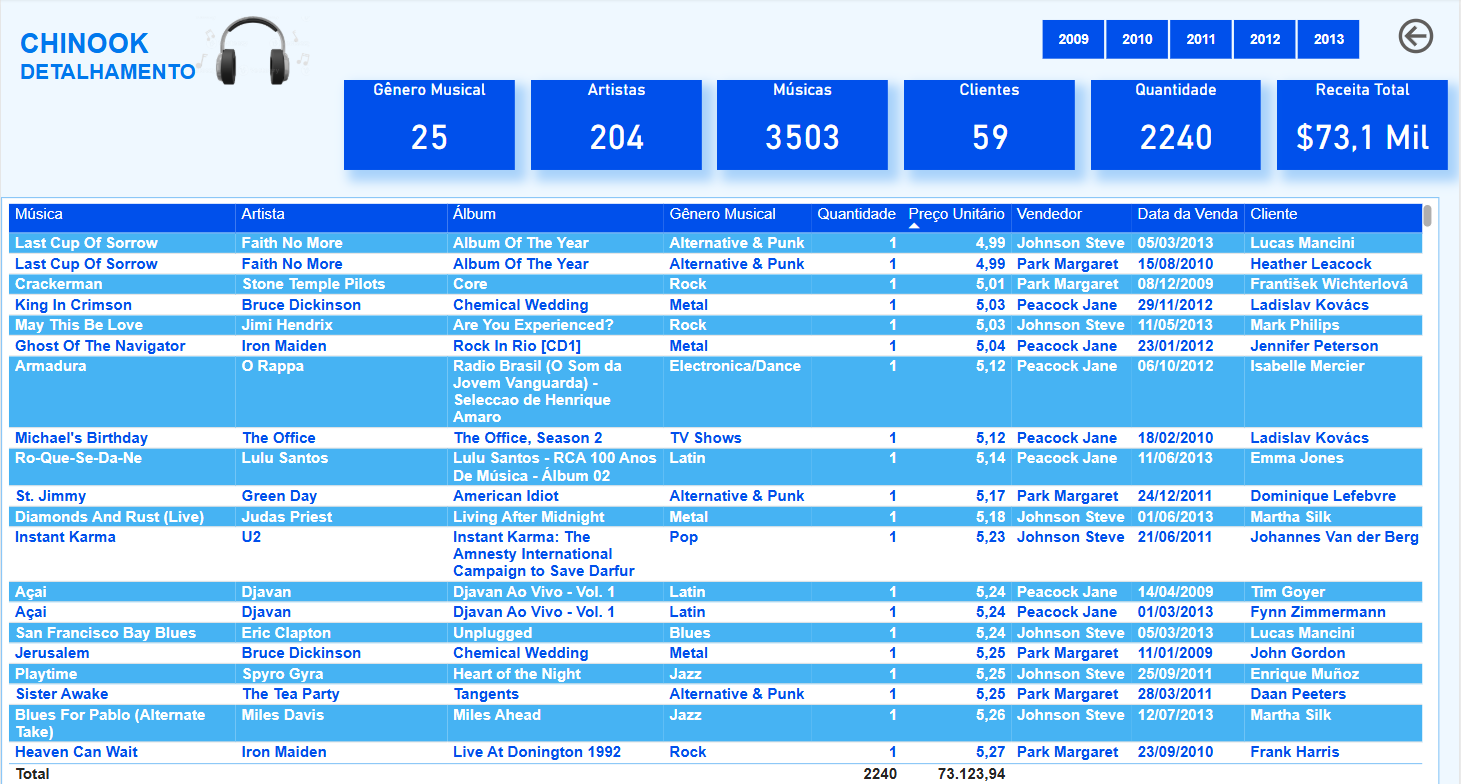

This screenshot's page, from the dashboard's own definition file:
{"tool":"powerbi","page":{"name":"Chinook Detail","canvas":[1280,720],"ordinal":3},"visuals":[{"type":"card","title":"Clientes","fields":{"Values":["#Medidas.TOTAL DE CLIENTES"]},"box":[653.2,73.3,189.8,88.3],"z":0},{"type":"card","title":"Artistas","fields":{"Values":["#Medidas.TOTAL DE ARTISTAS"]},"box":[226.5,74.2,188.9,89.3],"z":1000},{"type":"card","title":"Músicas","fields":{"Values":["#Medidas.TOTAL DE MÚSICAS"]},"box":[442.6,72.4,188.9,90.2],"z":2000},{"type":"card","title":"Receita Total","fields":{"Values":["#Medidas.RECEITA TOTAL"]},"box":[1070.4,72.4,189.8,88.3],"z":3000},{"type":"slicer","fields":{"Values":["dim_calendario.Ano"]},"box":[888.6,12.3,328.4,41.3],"z":4000},{"type":"card","title":"Gênero Musical","fields":{"Values":["#Medidas.TOTAL DE GÊNEROS MUSICAIS"]},"box":[25.4,74.2,189.8,89.3],"z":5000},{"type":"card","title":"Quantidade","fields":{"Values":["#Medidas.QUANTIDADE"]},"box":[862.7,71.4,189.8,89.3],"z":6000},{"type":"textbox","box":[429.4,7,472.4,54.4],"z":7000},{"type":"pivotTable","title":"TOP 5 Artistas","fields":{"Rows":["Artist.Name"],"Values":["#Medidas.RECEITA TOTAL","#Medidas.TOTAL DE ARTISTAS","#Medidas.QUANTIDADE TOTAL","#Medidas.TOTAL DE CLIENTES","#Medidas.TOTAL DE GÊNEROS MUSICAIS","#Medidas.TOTAL DE MÚSICAS"]},"box":[25.7,191.9,1235,513.5],"z":8000},{"type":"actionButton","box":[1222.2,13.2,44.8,40.4],"z":9000}]}

Visuals, with their boxes on the page's 1280x720 design canvas (x1, y1, x2, y2). These are canvas units, not pixel positions in the 1461x784 screenshot, which may show the page scaled, cropped or inside an application window:
"Clientes" card: x1=653 y1=73 x2=843 y2=162
"Artistas" card: x1=226 y1=74 x2=415 y2=164
"Músicas" card: x1=443 y1=72 x2=632 y2=163
"Receita Total" card: x1=1070 y1=72 x2=1260 y2=161
slicer - dim_calendario.Ano: x1=889 y1=12 x2=1217 y2=54
"Gênero Musical" card: x1=25 y1=74 x2=215 y2=164
"Quantidade" card: x1=863 y1=71 x2=1052 y2=161
textbox: x1=429 y1=7 x2=902 y2=61
"TOP 5 Artistas" pivotTable: x1=26 y1=192 x2=1261 y2=705
actionButton: x1=1222 y1=13 x2=1267 y2=54
